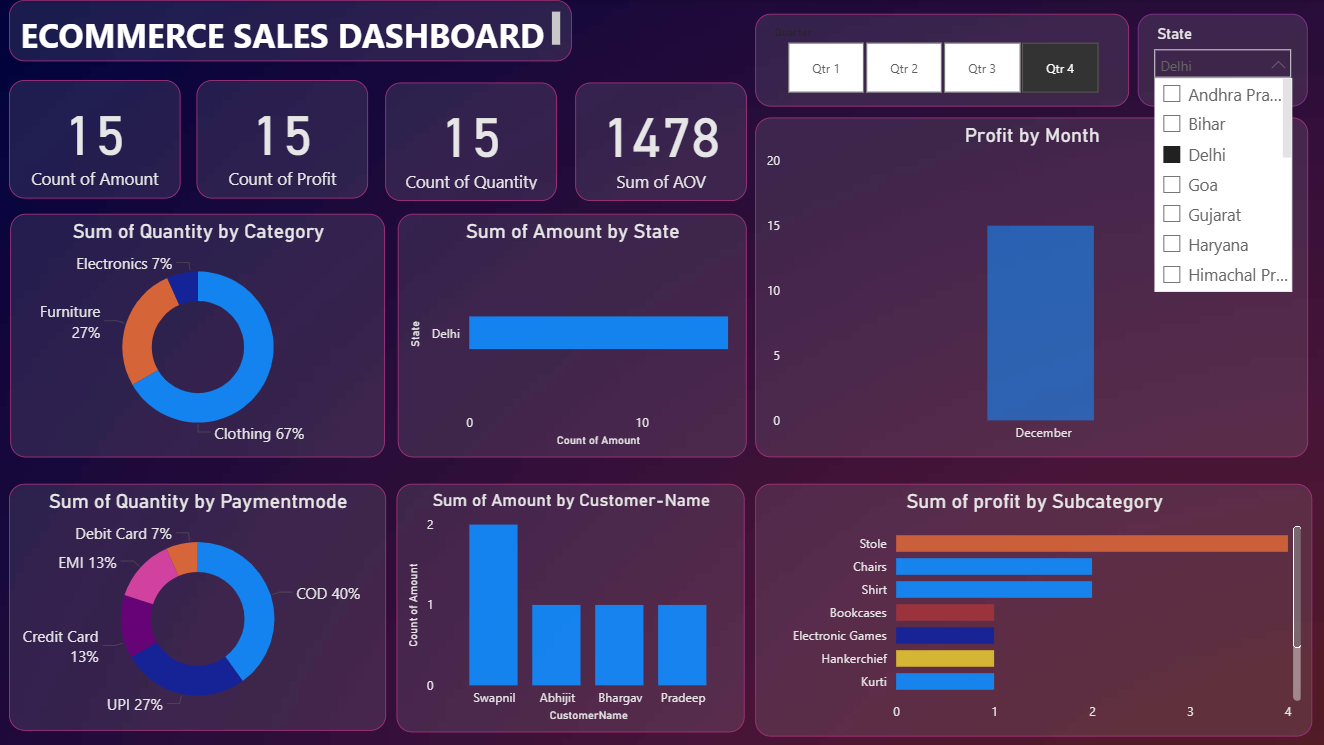

The page's visual inventory and layout, read from the dashboard file:
{"tool":"powerbi","page":{"name":"Ecommerce Sales","canvas":[1280,720],"ordinal":0},"visuals":[{"type":"textbox","box":[9.7,0,542.9,59.1],"z":0},{"type":"columnChart","title":"Profit by Month","fields":{"Category":["Orders.Order Date.Variation.Date Hierarchy.Month"],"Y":["CountNonNull(Details.Profit)"]},"box":[729.9,113.4,533.2,328.2],"z":1000},{"type":"donutChart","title":"Sum of Quantity by Category","fields":{"Category":["Details.Category"],"Y":["CountNonNull(Details.Quantity)"]},"box":[10.9,206.3,361.9,235.3],"z":2000},{"type":"clusteredBarChart","title":"Sum of profit by Subcategory","fields":{"Y":["CountNonNull(Details.Profit)"],"Category":["Details.Sub-Category"]},"box":[730,466.6,537.9,244.3],"z":3000},{"type":"donutChart","title":"Sum of Quantity by Paymentmode","fields":{"Y":["CountNonNull(Details.Quantity)"],"Category":["Details.PaymentMode"]},"box":[9.6,466.6,363.6,238.8],"z":4000},{"type":"card","title":"Sum of profit by Subcategory","fields":{"Values":["CountNonNull(Details.Amount)"]},"box":[9.7,77.2,165.3,114.6],"z":5000},{"type":"card","title":"Sum of profit by Subcategory","fields":{"Values":["CountNonNull(Details.Profit)"]},"box":[190.6,77.2,165.3,114.6],"z":6000},{"type":"card","title":"Sum of profit by Subcategory","fields":{"Values":["CountNonNull(Details.Quantity)"]},"box":[372.8,79.6,165.3,114.6],"z":7000},{"type":"card","title":"Sum of profit by Subcategory","fields":{"Values":["Sum(Details.AOV)"]},"box":[556.2,79.6,165.3,114.6],"z":8000},{"type":"clusteredBarChart","title":"Sum of Amount by State","fields":{"Y":["CountNonNull(Details.Amount)"],"Category":["Orders.State"]},"box":[384.9,206.3,336.6,235.3],"z":9000},{"type":"columnChart","title":"Sum of Amount by Customer-Name","fields":{"Category":["Orders.CustomerName"],"Y":["CountNonNull(Details.Amount)"]},"box":[384.2,466.6,336.2,240.1],"z":10000},{"type":"slicer","fields":{"Values":["Orders.Order Date.Variation.Date Hierarchy.Quarter"]},"box":[729.9,13.3,360.7,89.3],"z":11000},{"type":"slicer","fields":{"Values":["Orders.State"]},"box":[1099.1,13.3,164.1,89.3],"z":12000}]}

Visuals, with their boxes in screenshot pixels (x1, y1, x2, y2), scaled from the page's 1280x720 canvas onto the 1324x745 screenshot:
textbox: 10,0,572,61
"Profit by Month" columnChart: 755,117,1307,457
"Sum of Quantity by Category" donutChart: 11,213,386,457
"Sum of profit by Subcategory" clusteredBarChart: 755,483,1311,736
"Sum of Quantity by Paymentmode" donutChart: 10,483,386,730
"Sum of profit by Subcategory" card: 10,80,181,198
"Sum of profit by Subcategory" card: 197,80,368,198
"Sum of profit by Subcategory" card: 386,82,557,201
"Sum of profit by Subcategory" card: 575,82,746,201
"Sum of Amount by State" clusteredBarChart: 398,213,746,457
"Sum of Amount by Customer-Name" columnChart: 397,483,745,731
slicer - Orders.Order Date.Variation.Date Hierarchy.Quarter: 755,14,1128,106
slicer - Orders.State: 1137,14,1307,106
